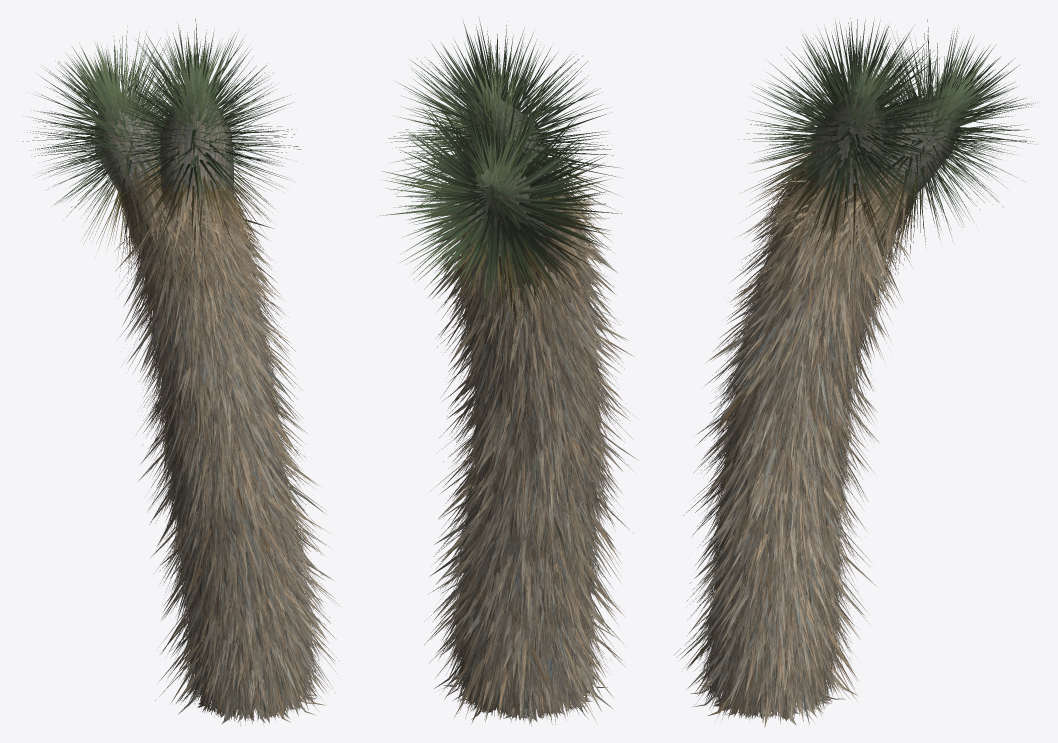
File: joshua_a.glb
The picture shows the model from 3 angles, left to right: view 1: azimuth 30°, elevation 25°; view 2: azimuth 150°, elevation 25°; view 3: azimuth 270°, elevation 25°; orthographic projection. The views are drawn at different scales.
Parts seen in each view (by area): view 1: joshua_a; view 2: joshua_a; view 3: joshua_a.
Boxes of the visible parts, bbox=[...] form: joshua_a: bbox=[17, 18, 340, 726]; joshua_a: bbox=[377, 16, 638, 726]; joshua_a: bbox=[674, 18, 1037, 727].
Size of the model in its own units: 1.11 by 3.03 by 1.55.
Materials: 3 (3 with a texture image).
